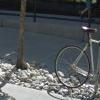Bicycle: (47, 21, 97, 89)
